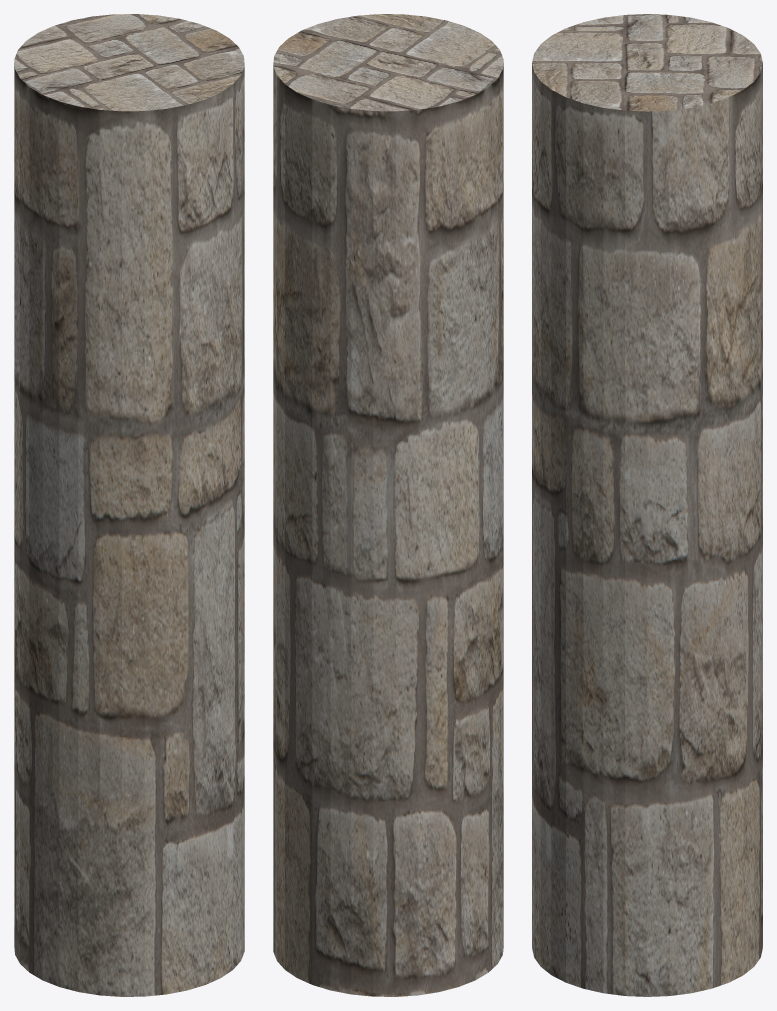
Rendered from pillar.fbx.
3 renders of one model, left to right at view 1: azimuth 30°, elevation 25°; view 2: azimuth 150°, elevation 25°; view 3: azimuth 270°, elevation 25°, orthographic.
Parts seen in each view (by area): view 1: Cylinder; view 2: Cylinder; view 3: Cylinder.
Boxes of the visible parts, x1=… form: Cylinder: x1=14, y1=14, x2=244, y2=996; Cylinder: x1=273, y1=14, x2=503, y2=996; Cylinder: x1=532, y1=14, x2=762, y2=996.
Bounding box in the file's own units: 200 × 846 × 200.
Materials: 1 (1 with a texture image).
